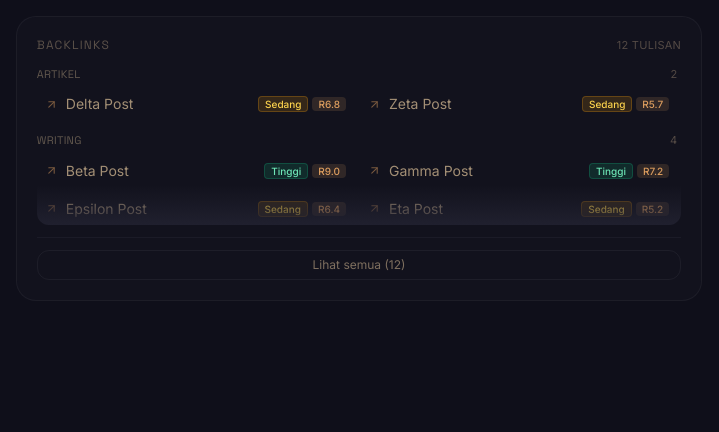
it: Backlinks › renders compact grouped backlinks with quality badges and animated toggle
Expected: the text "12 tulisan" is shown, [617, 37, 681, 54]
Expected: the heading "Artikel" is shown, [37, 66, 81, 82]
Click the button "Lihat semua (12)" at (359, 264), box [37, 250, 681, 280]
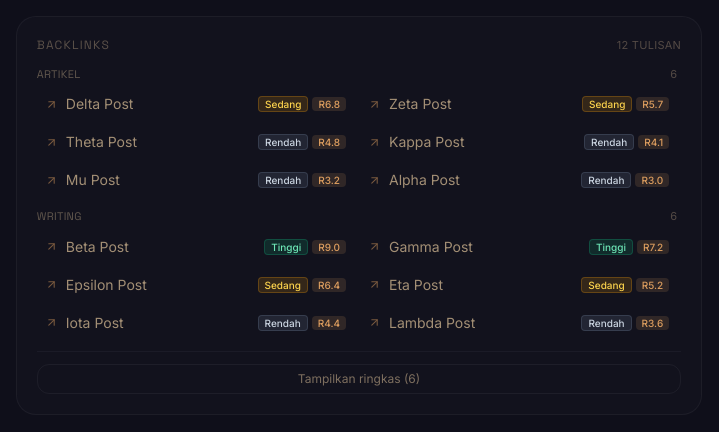
Now the button named "Lihat semua (12)" is expanded, box [37, 364, 681, 394]
Now the text "Rendah" in the row of "4.8" is shown, box [265, 136, 301, 148]
Now the number of links is 12
